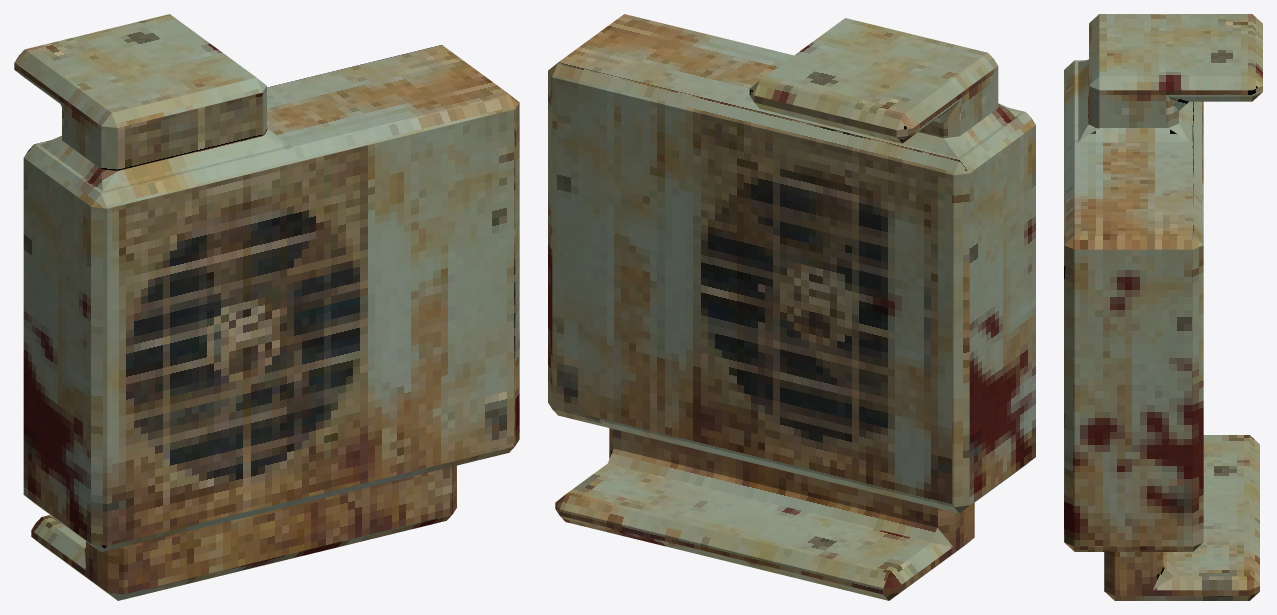
File: aircon.glb
The picture shows the model from 3 angles, left to right: view 1: azimuth 30°, elevation 25°; view 2: azimuth 150°, elevation 25°; view 3: azimuth 270°, elevation 25°; orthographic projection. The views are drawn at different scales.
Parts seen in each view (by area): view 1: aircon_unit; view 2: aircon_unit; view 3: aircon_unit.
Part boxes in pixels (left/top/right/bottom): aircon_unit: left=14, top=14, right=519, bottom=600; aircon_unit: left=548, top=14, right=1035, bottom=600; aircon_unit: left=1064, top=14, right=1262, bottom=600.
Bounding box in the file's own units: 1.25 × 1.39 × 0.5697.
Materials: 1 (1 with a texture image).
